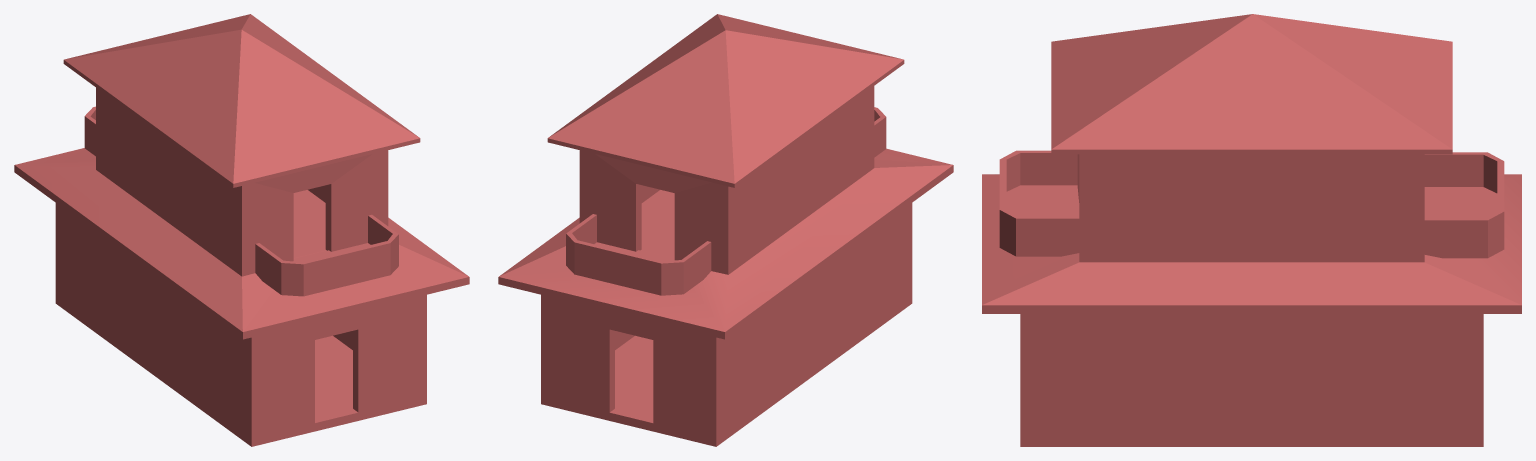
File: House_2_CollMesh.fbx
The picture shows the model from 3 angles, left to right: view 1: azimuth 30°, elevation 25°; view 2: azimuth 150°, elevation 25°; view 3: azimuth 270°, elevation 25°; orthographic projection. The views are drawn at different scales.
Parts seen in each view (by area): view 1: House_2_CollMesh; view 2: House_2_CollMesh; view 3: House_2_CollMesh.
Part boxes in pixels (box(x1,y1,x2,y2)): House_2_CollMesh: box(14, 14, 469, 446); House_2_CollMesh: box(498, 14, 953, 446); House_2_CollMesh: box(982, 14, 1521, 446).
Bounding box in the file's own units: 0.0675 × 0.0921 × 0.1178.
